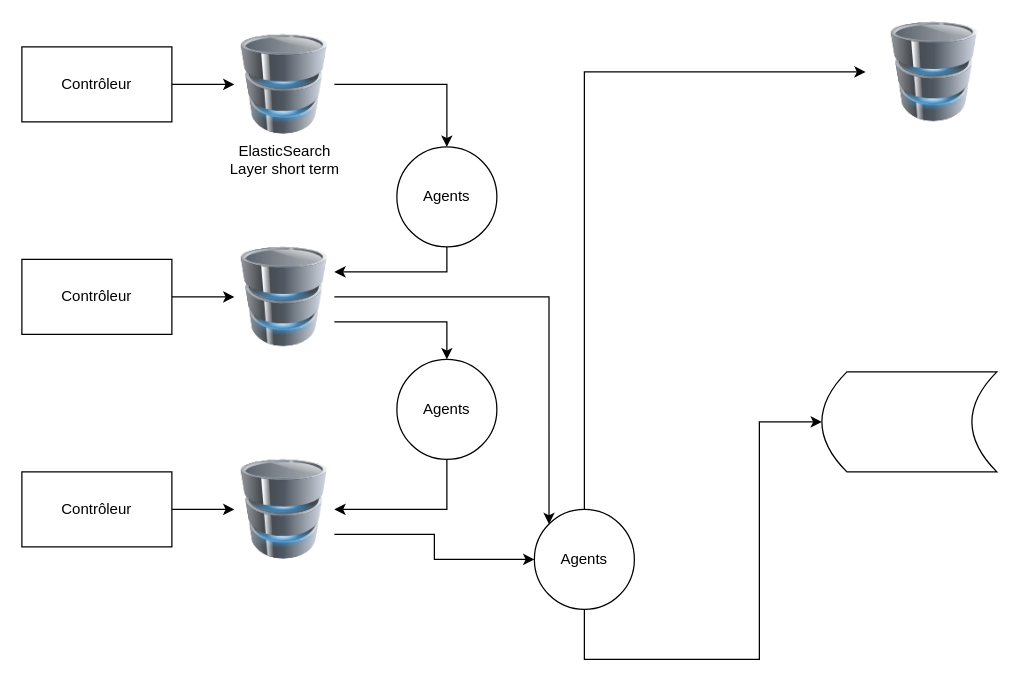
Image size: 1025x691. Some labels were removed from this diagram. Each missing label, with the centre of its shape:
"ElasticSearch Layer long term" goes at pixel 284 509.
"ElasticSearch Layer middle term" goes at pixel 284 296.
"Knowledge base" goes at pixel 933 71.
"Reflex layer" goes at pixel 909 421.
